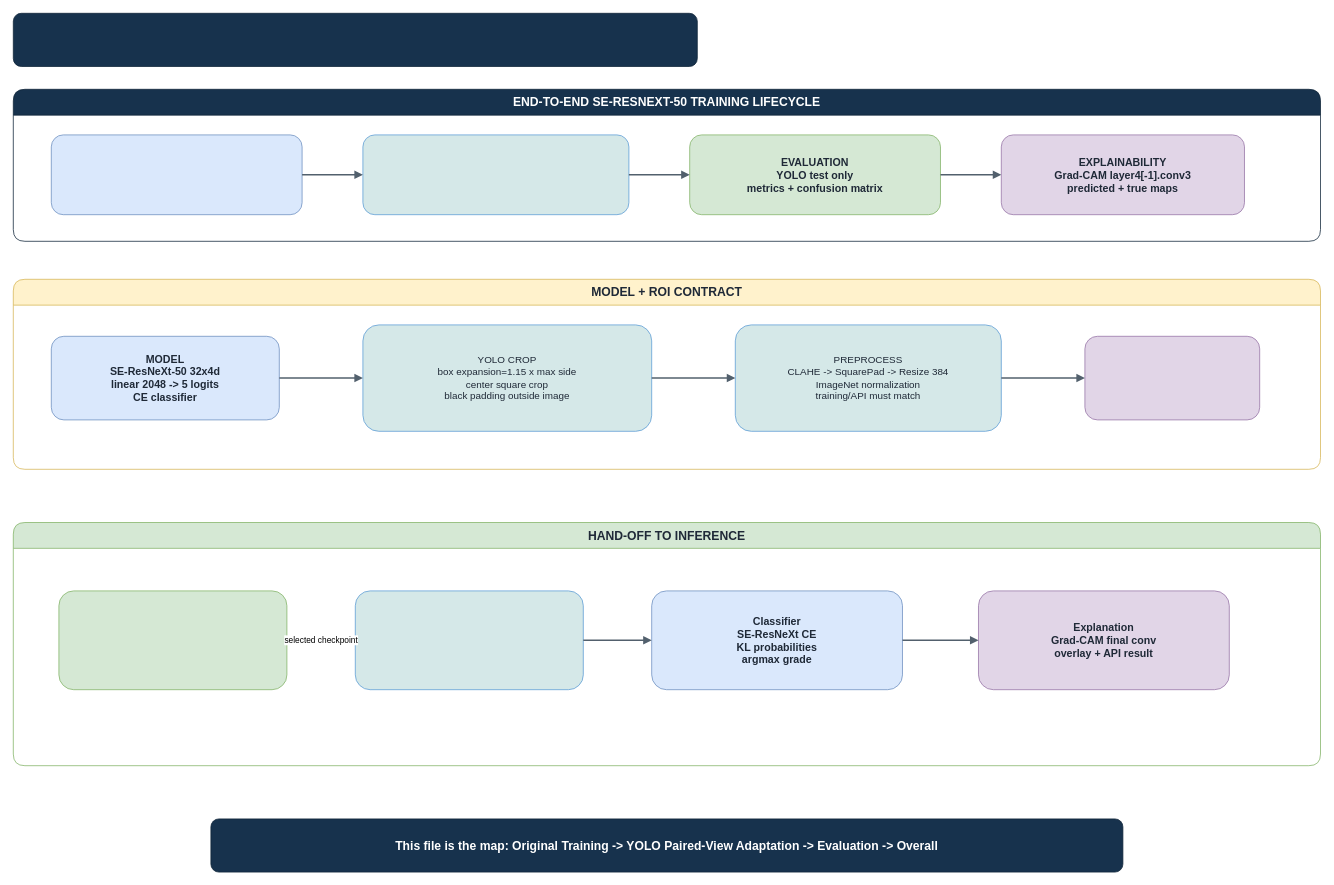
Image size: 1334x885. Some labels were removed from this diagram. The shapes that lost their labels are listed below. From the top down, each one's centre as x and y in pixels, then its label:
pixel 355 39: Overall
pixel 176 174: ORIGINAL TRAINING Published kneeKL224 3-stage CE -> base checkpoint
pixel 495 174: ADAPTATION Published + YOLO paired views 5 epochs -> robust checkpoint
pixel 1172 378: EXPLAIN Grad-CAM is post-hoc never changes logits no native-CAM head
pixel 172 640: Training output best_model.pth manifest + history
pixel 469 640: YOLO service detect box expand + square pad 384 image
